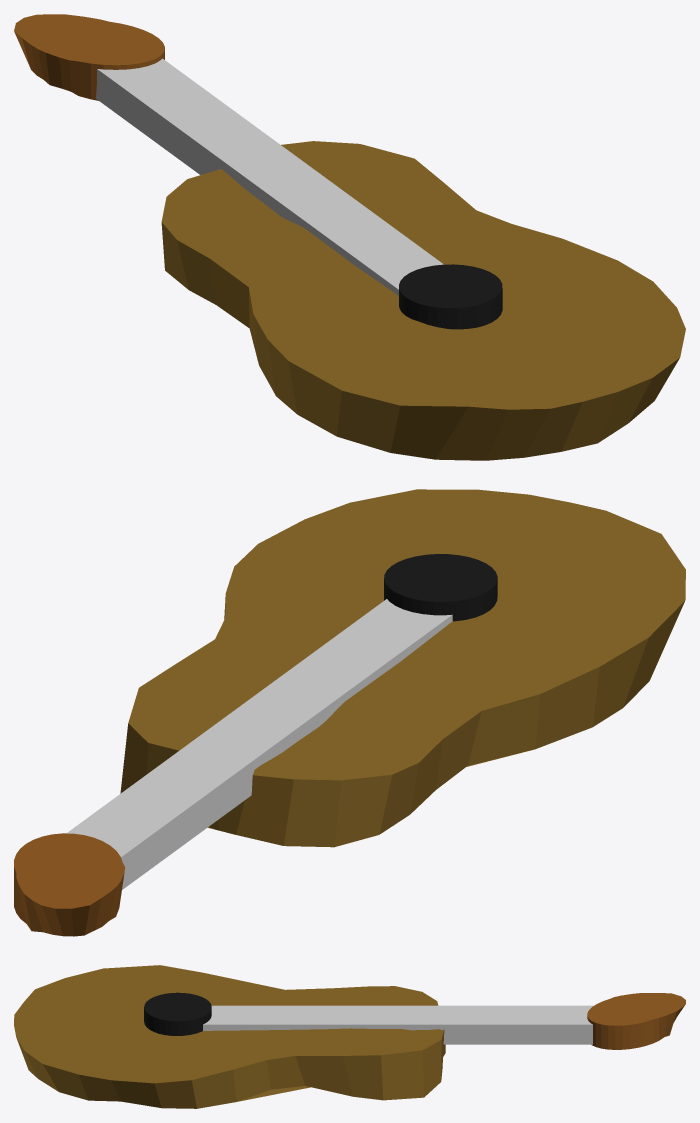
The model's file is guitarracriollafbx.fbx.
3 renders of one model, top to bottom at view 1: azimuth 30°, elevation 25°; view 2: azimuth 150°, elevation 25°; view 3: azimuth 270°, elevation 25°, orthographic. The views are drawn at different scales.
Parts seen in each view (by area): view 1: Cilindro, Cubo, Cilindro.002, Cilindro.001; view 2: Cilindro, Cubo, Cilindro.002, Cilindro.001; view 3: Cilindro, Cubo, Cilindro.002, Cilindro.001.
Part boxes in pixels (x1=…): Cilindro: x1=161, y1=141, x2=685, y2=460; Cubo: x1=96, y1=58, x2=443, y2=295; Cilindro.002: x1=14, y1=14, x2=164, y2=100; Cilindro.001: x1=399, y1=264, x2=502, y2=329; Cilindro: x1=120, y1=489, x2=685, y2=847; Cubo: x1=67, y1=599, x2=452, y2=889; Cilindro.002: x1=14, y1=833, x2=125, y2=936; Cilindro.001: x1=384, y1=554, x2=497, y2=621; Cilindro: x1=14, y1=965, x2=445, y2=1108; Cubo: x1=203, y1=1005, x2=593, y2=1044; Cilindro.002: x1=587, y1=993, x2=685, y2=1049; Cilindro.001: x1=144, y1=992, x2=211, y2=1035.
Bounding box in the file's own units: 211 × 49.25 × 522.
